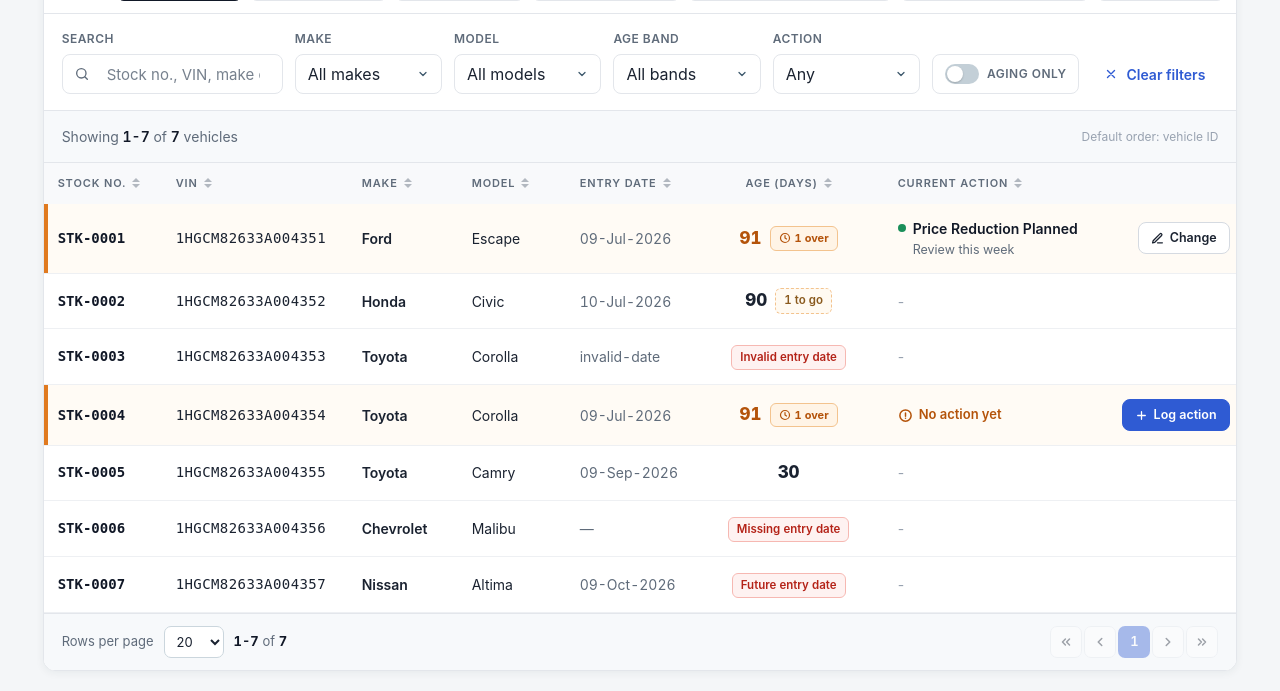
Test: App › opens the action editor inline under the row and closes it on Cancel
(page scrolled)
Step 1. Click the button "Log action" → (1176, 415), box x1=1122 y1=399 x2=1230 y2=431
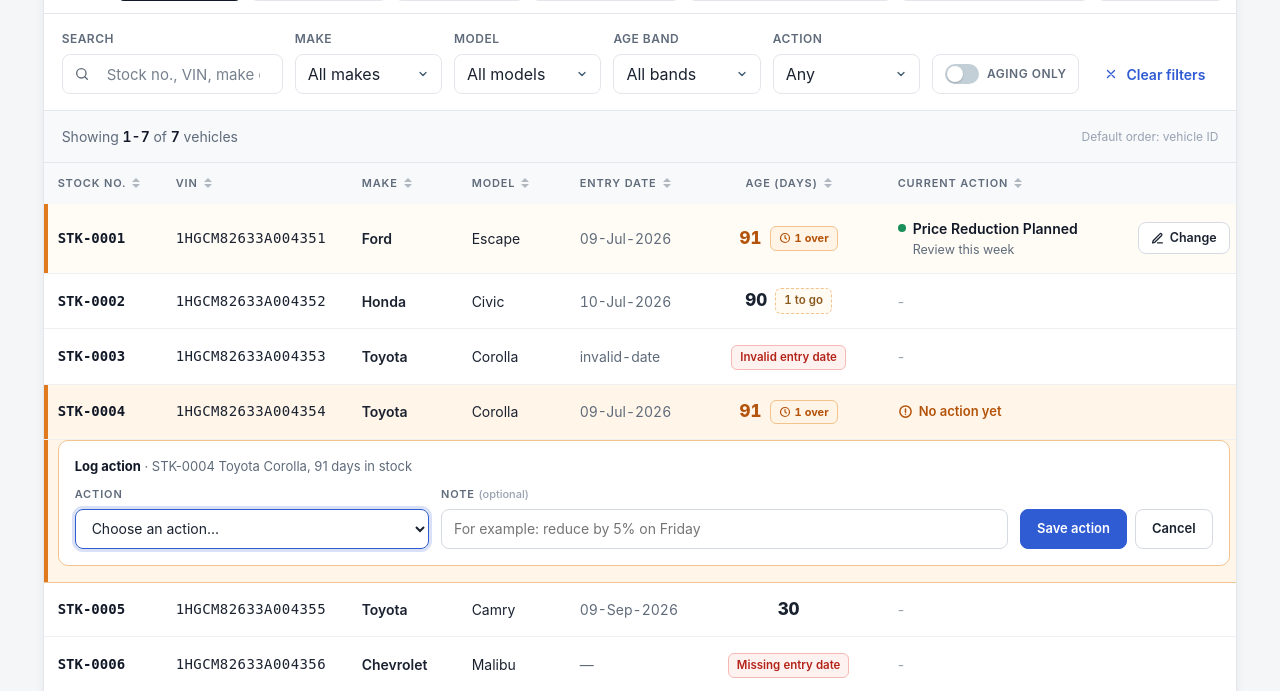
Step 2. Click the button "Cancel" → (1174, 528), box x1=1135 y1=508 x2=1213 y2=548
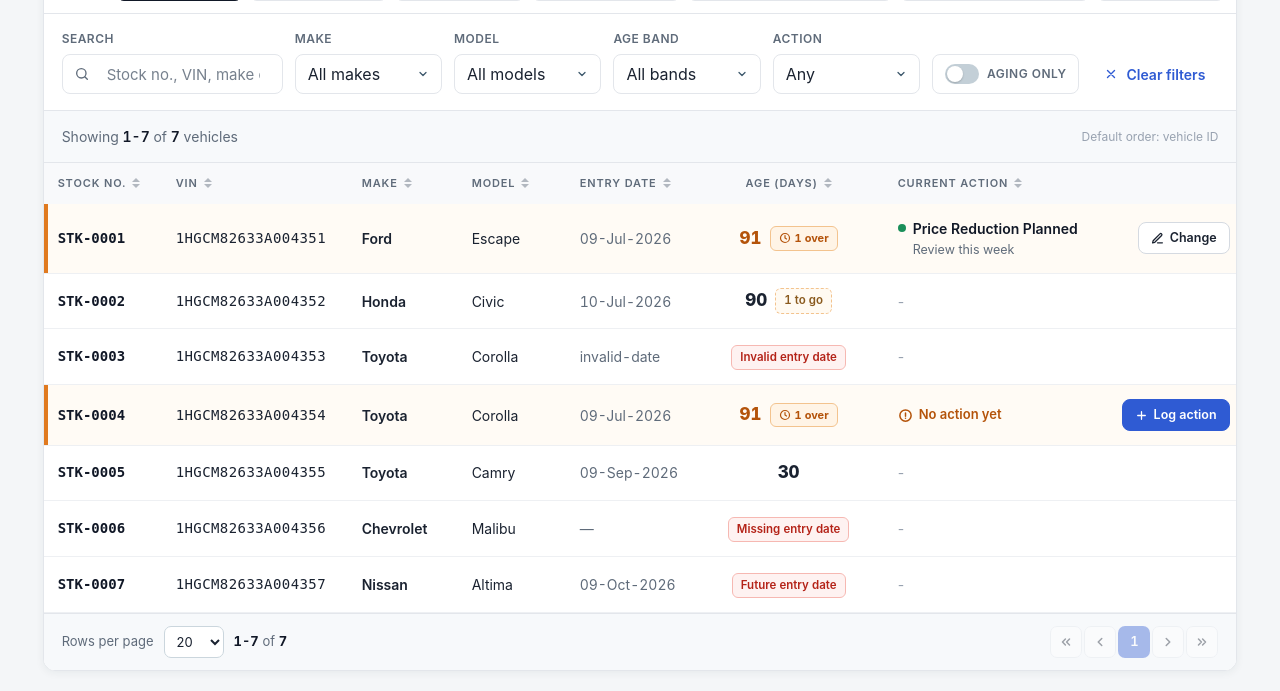
Expected: the button "Log action" is shown, x1=1122 y1=399 x2=1230 y2=431
Now the form is gone
